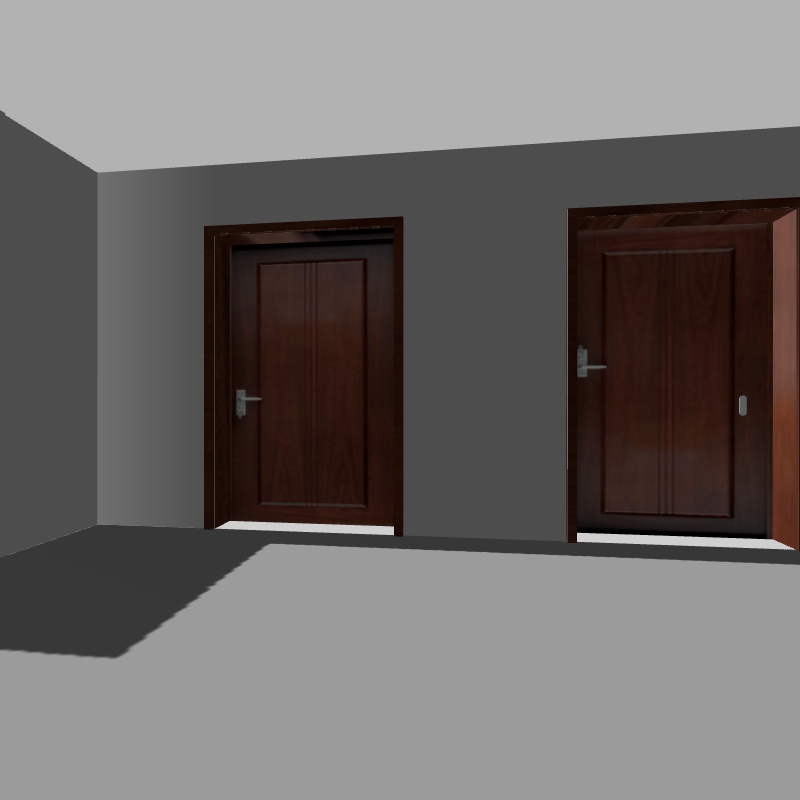handle: (572, 340, 607, 386), (226, 385, 262, 418)
